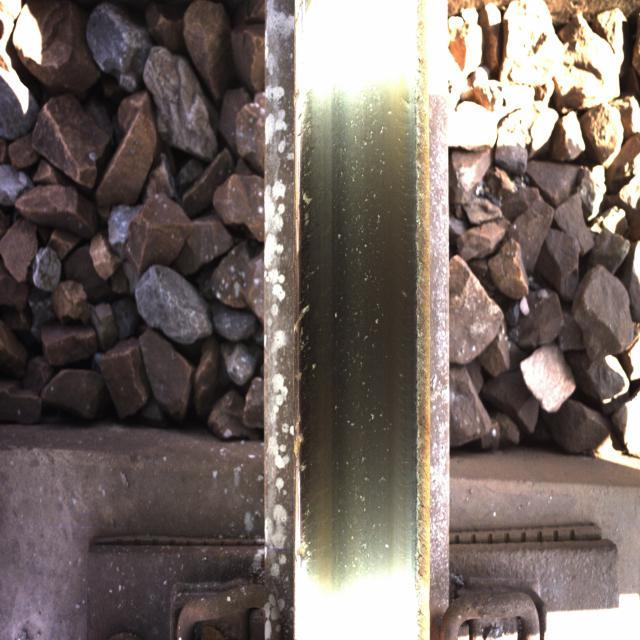normal: (286, 44, 422, 548)
